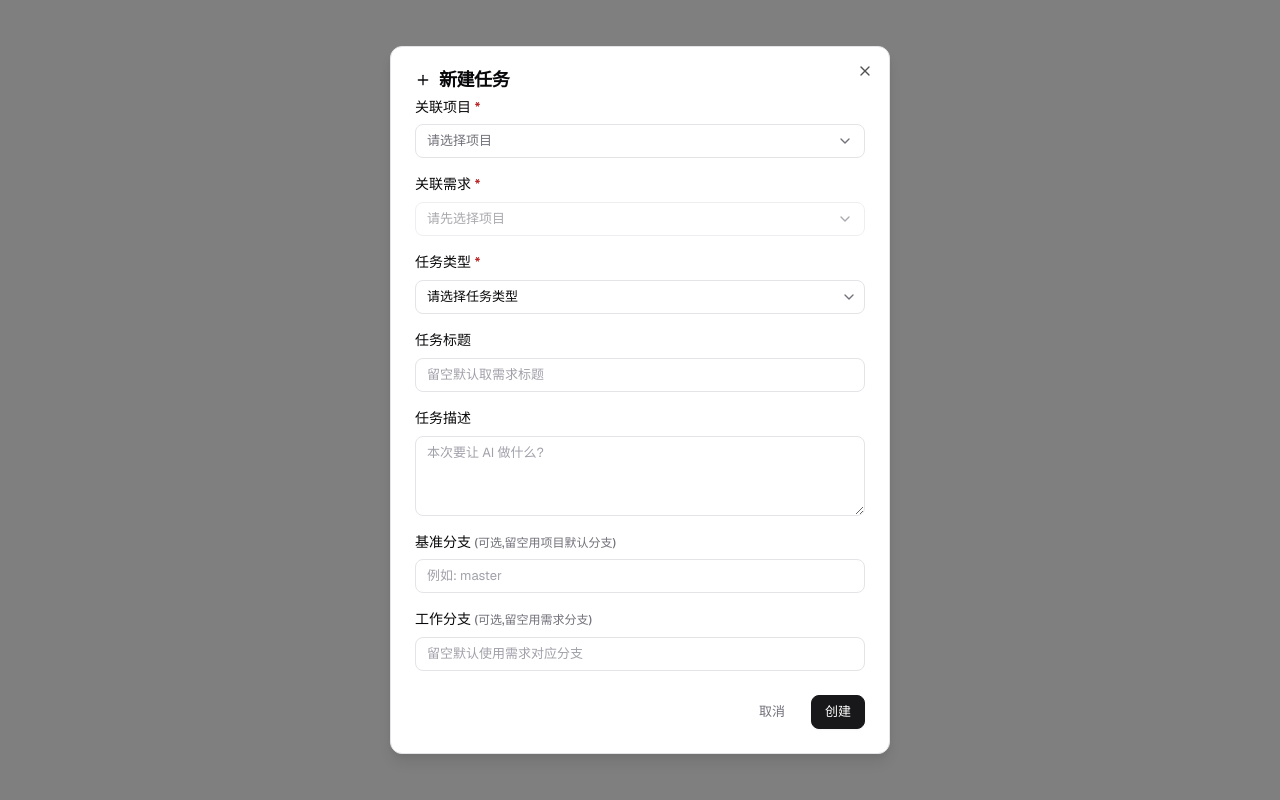
R3.2 可搜索的项目与需求选择器(TaskCreateDialog) › 判据2 需求选择器:选中项目后输入关键词走后端搜索接口(携带 project_id)
Expected: the text "关联需求" is shown, [415,175,474,193]
Expected: the text "请选择项目" is shown, [427,131,492,151]
Click the button "请选择项目" at (460, 141), box [415,124,865,158]
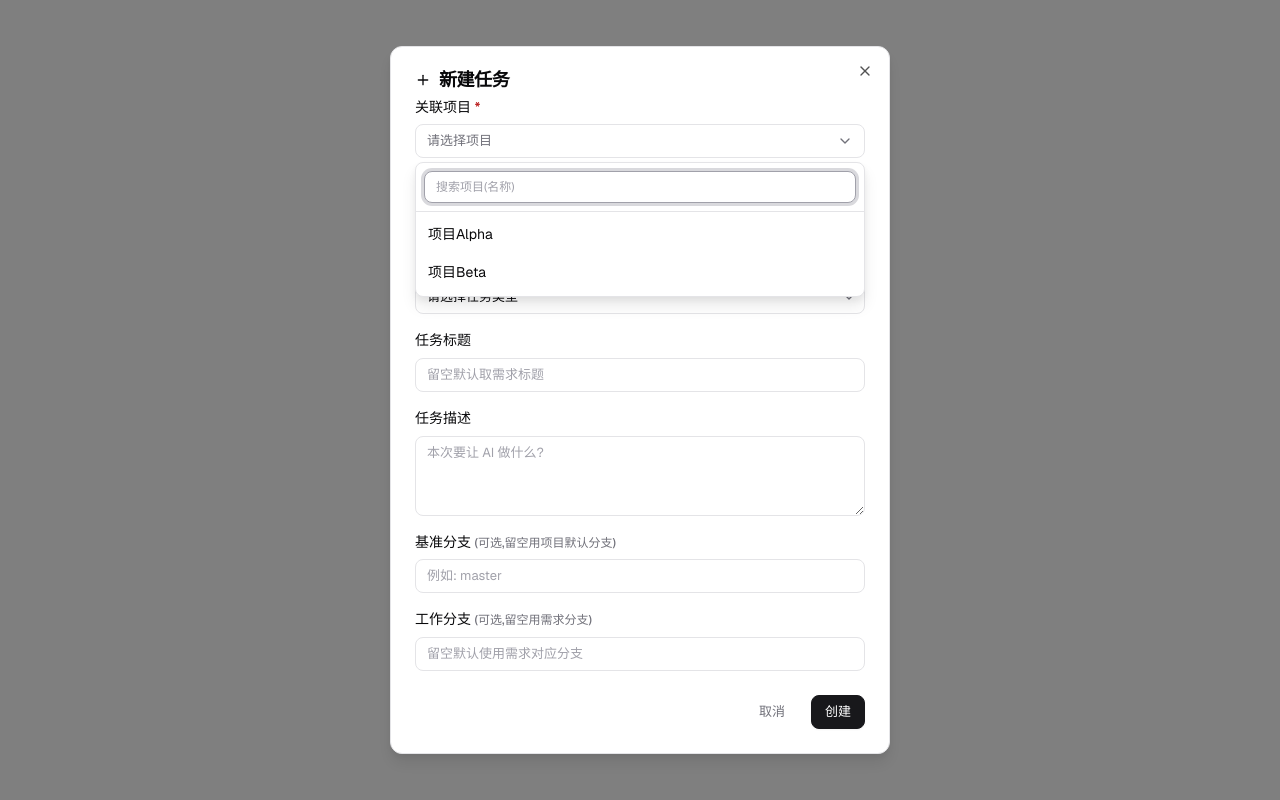
Expected: the field with placeholder "搜索项目(名称)" is shown, [424,171,856,203]
Click the button "项目Alpha" at (460, 234), box [416,216,864,254]
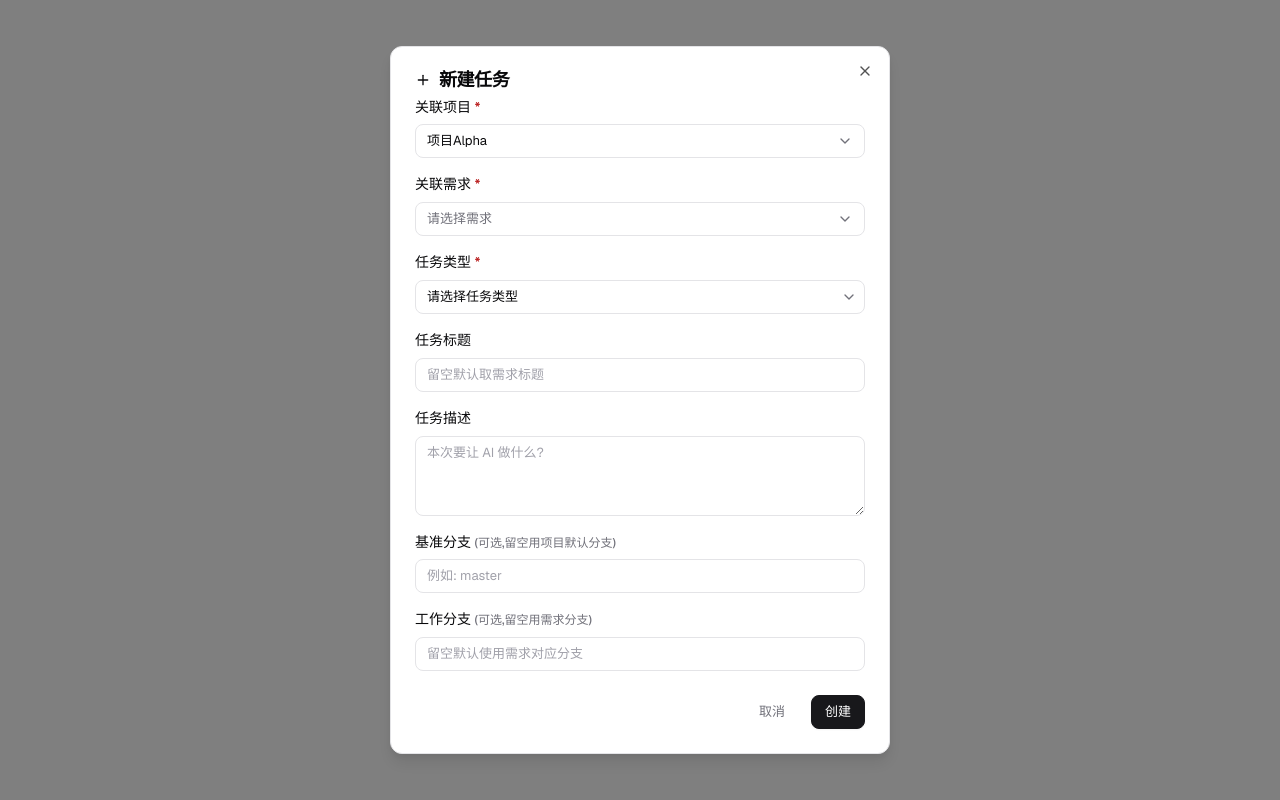
Expected: the text "请选择需求" is shown, [427,209,492,229]
Click the button "请选择需求" at (460, 219), box [415,202,865,236]
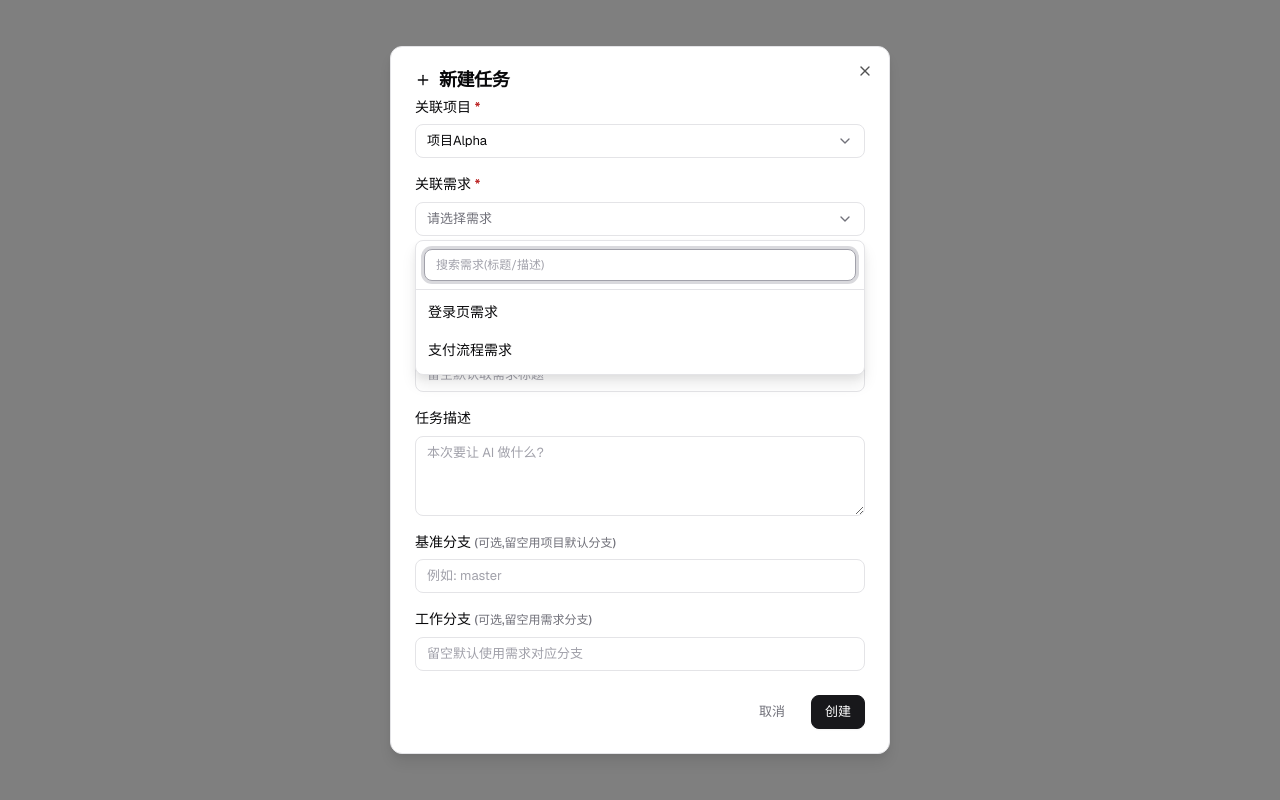
Expected: the field with placeholder "搜索需求(标题/描述)" is shown
Expected: the text "登录页需求" is shown, [428,303,498,321]
Type "支付" into the field with placeholder "搜索需求(标题/描述)" at (640, 265), box [424,249,856,281]
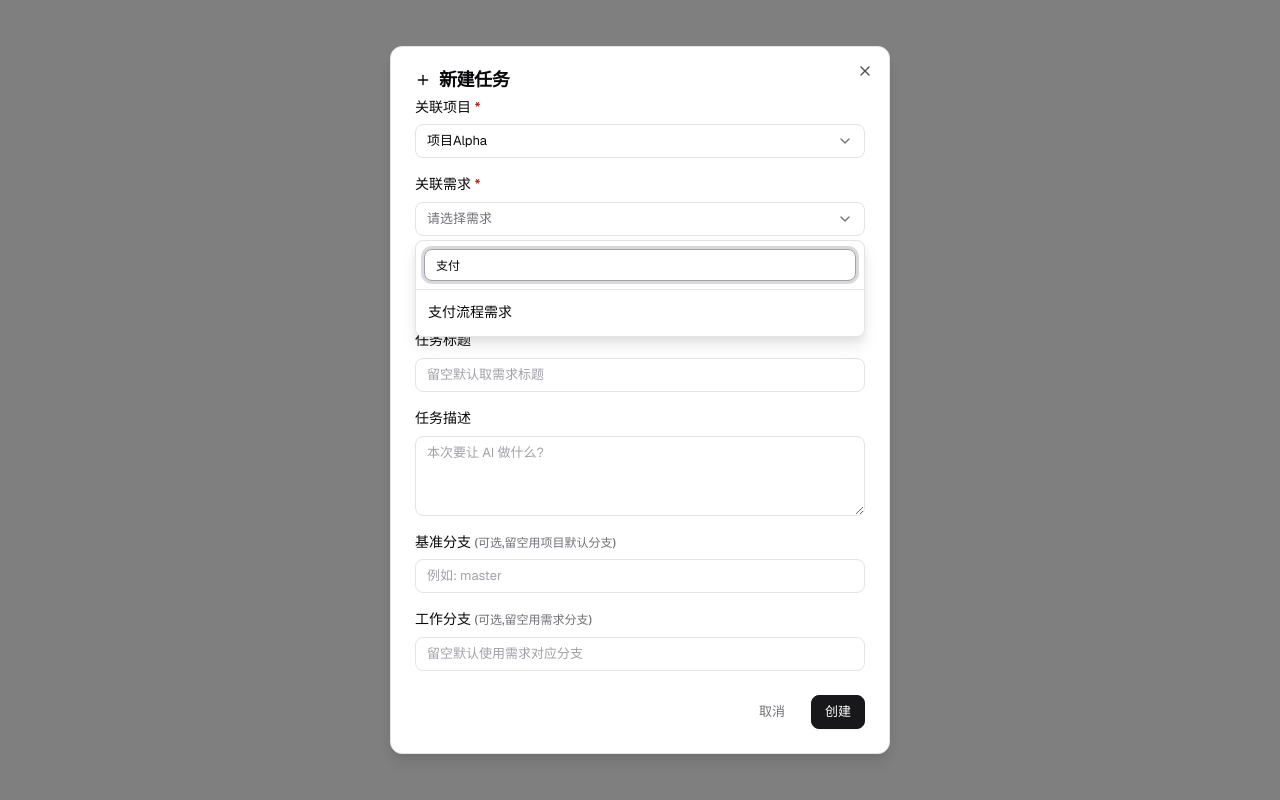
Expected: the text "支付流程需求" is shown, [428,303,512,321]
Expected: the button "登录页需求" is gone
